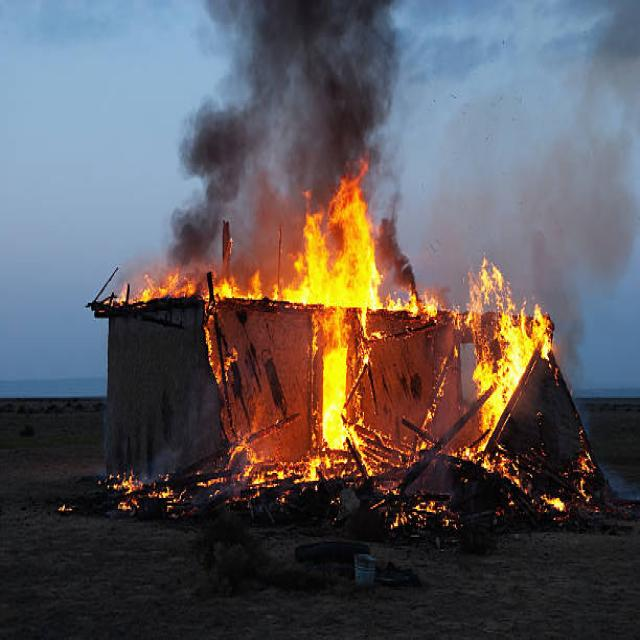fire: (469, 260, 553, 426), (298, 190, 381, 312), (322, 322, 356, 455)
smoke: (219, 11, 390, 162)
